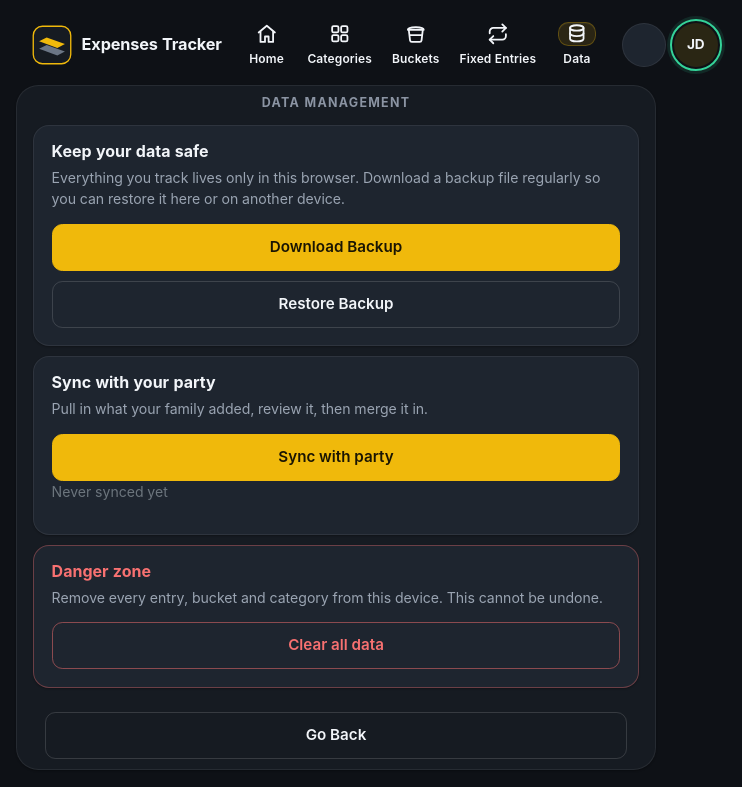
bulk review actions (AC-3.5) › Reject all acts only on the remaining items after individual reviews
Click the button "Sync with party". click: point(336, 457)
box: x1=52 y1=434 x2=620 y2=481
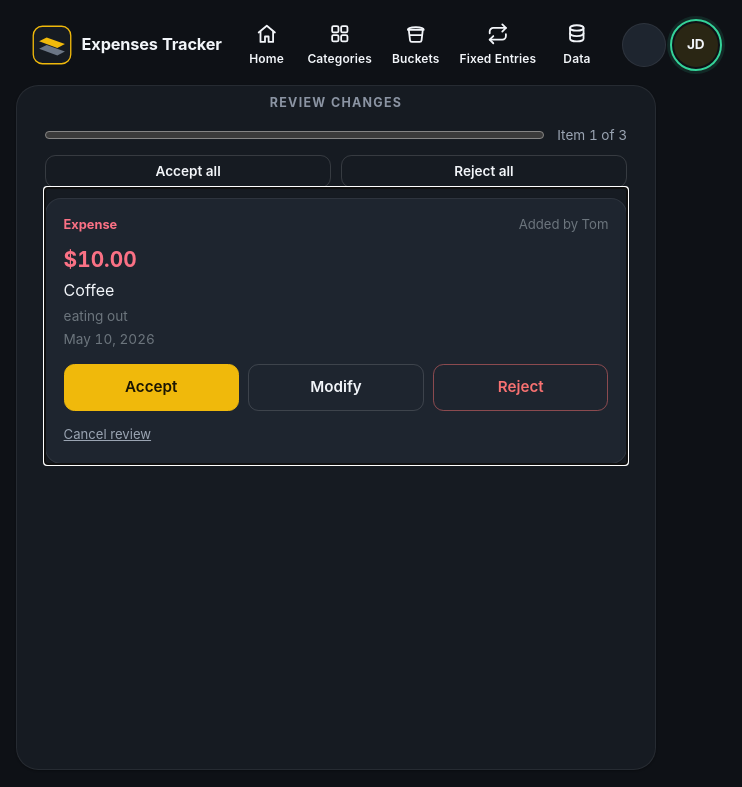
Check: the text "Item 1 of 3" is shown, box x1=557 y1=125 x2=627 y2=146
Click the button with aria-label "Accept $". click: point(151, 388)
box: x1=64 y1=364 x2=239 y2=411
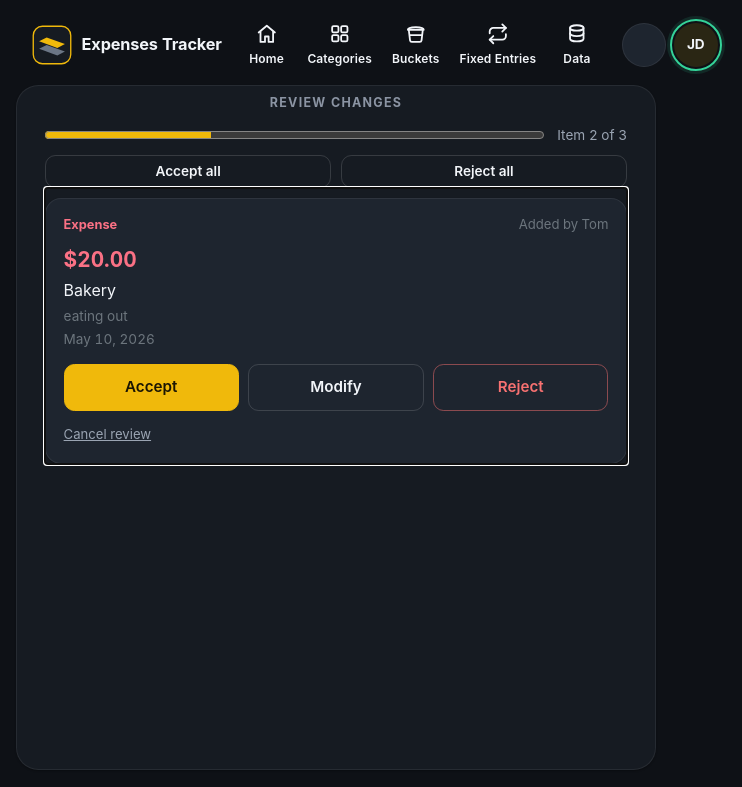
Check: the text "Item 2 of 3" is shown, box x1=557 y1=125 x2=627 y2=146
Click the button "Reject all". click: point(484, 171)
box: x1=341 y1=155 x2=627 y2=188
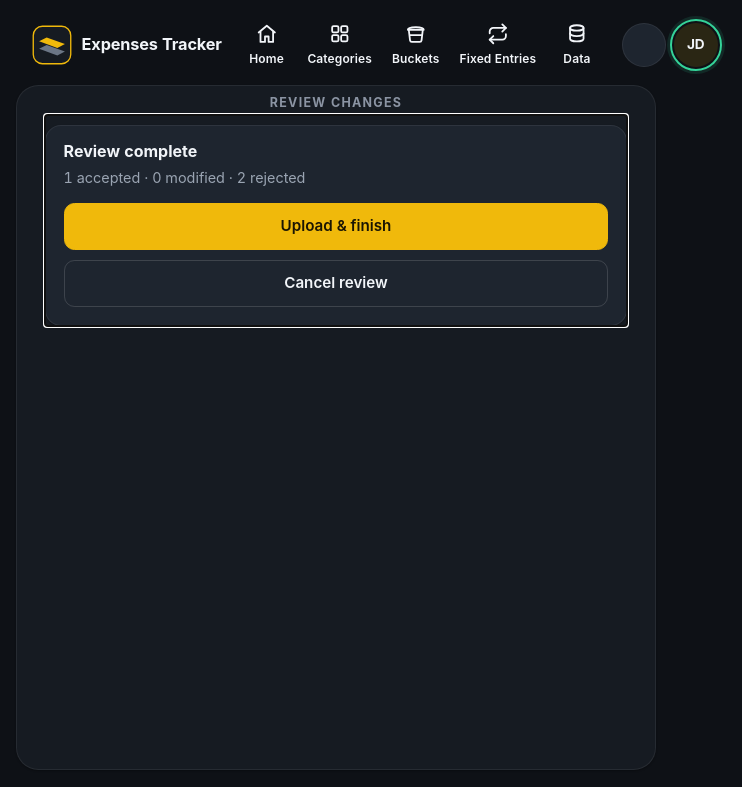
Check: the heading "Review complete" is shown, box x1=64 y1=141 x2=197 y2=161
Check: the text "1 accepted · 0 modified · 2 rejected" is shown, box x1=64 y1=169 x2=305 y2=186
